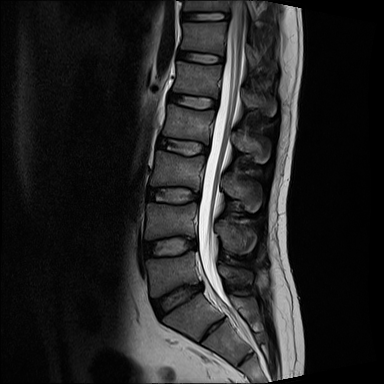Lumbar Disc Bulge (LDB): (148, 277, 208, 322)
Normal IVD: (155, 129, 211, 162), (141, 232, 202, 262), (142, 183, 200, 206), (166, 89, 219, 112), (173, 50, 227, 67), (179, 11, 231, 26)
Spinal Stenosis (SS): (194, 276, 207, 299)
